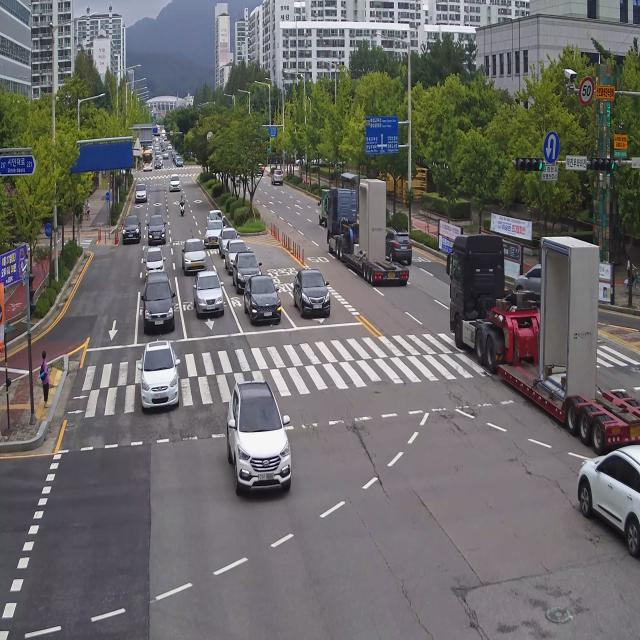Bus: (142, 146, 154, 174)
Car: (218, 370, 304, 514), (563, 429, 640, 571), (133, 334, 186, 425), (128, 274, 184, 346), (182, 261, 232, 326), (241, 269, 291, 330), (289, 260, 333, 323), (506, 250, 550, 299), (384, 219, 424, 271), (230, 242, 265, 291), (175, 233, 209, 273), (141, 245, 168, 279), (225, 236, 248, 272), (124, 205, 144, 244), (165, 170, 191, 199), (131, 177, 155, 207), (147, 209, 166, 246), (203, 220, 226, 248), (219, 225, 237, 252), (204, 208, 226, 224), (271, 168, 285, 192), (153, 158, 162, 170), (162, 149, 170, 159), (176, 156, 184, 166), (157, 156, 163, 165)
Motorcycle: (175, 188, 192, 224)
Truck: (441, 216, 640, 468), (317, 177, 411, 292), (316, 179, 333, 229)
